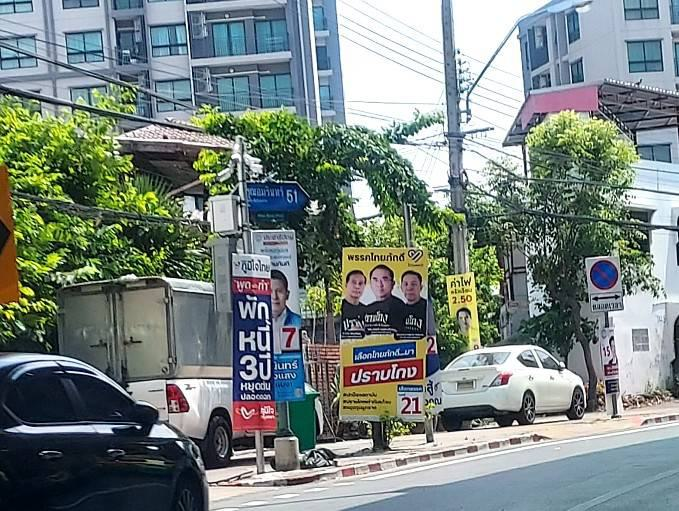Banner: (339, 248, 427, 421), (253, 230, 304, 401), (231, 251, 276, 432), (448, 277, 480, 347), (597, 327, 623, 393)
